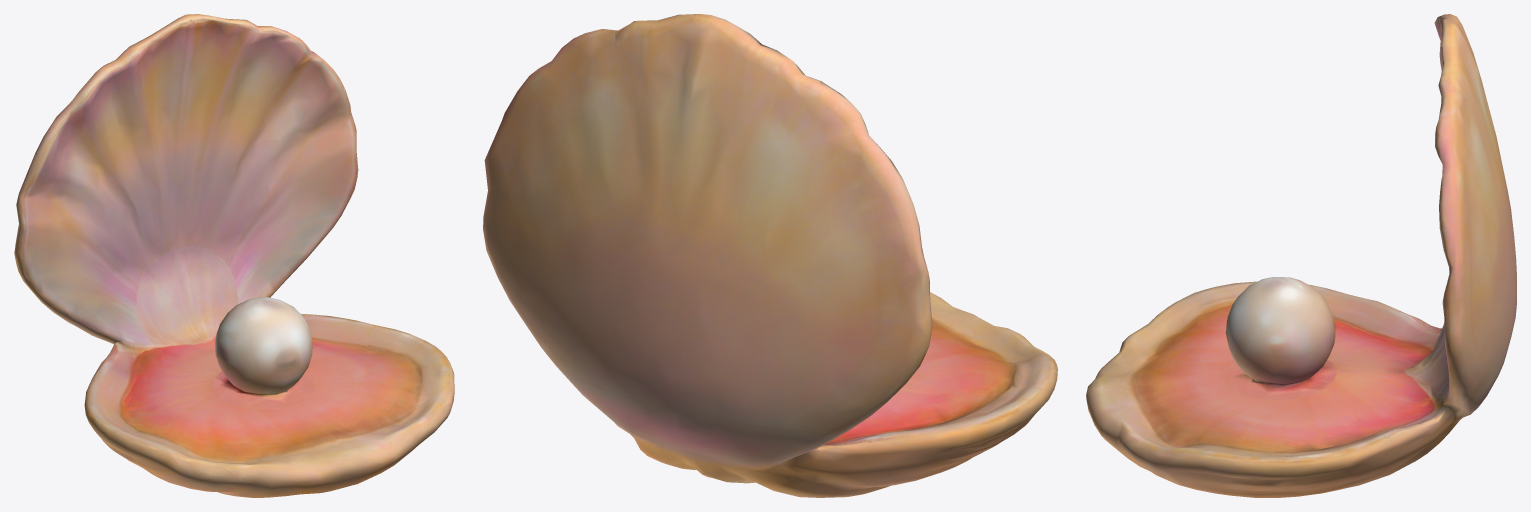
Rendered from pearl.glb.
The picture shows the model from 3 angles, left to right: view 1: azimuth 30°, elevation 25°; view 2: azimuth 150°, elevation 25°; view 3: azimuth 270°, elevation 25°; orthographic projection. The views are drawn at different scales.
Bounding box in the file's own units: 1.83 × 2 × 1.8.
1 material, 1 textured.
